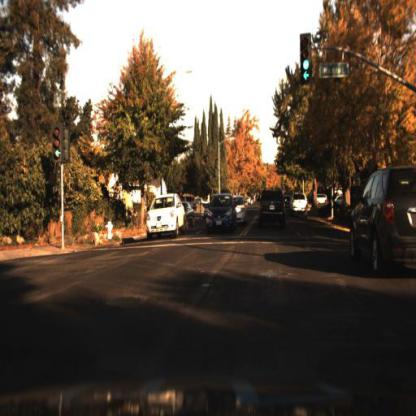car: (349, 166, 416, 280), (147, 189, 191, 241), (204, 194, 238, 236), (254, 186, 289, 226), (257, 186, 288, 230), (290, 189, 311, 218), (235, 194, 247, 224), (236, 197, 247, 223)
trafficLight: (302, 38, 314, 82)
trafficLight-GreenLeft: (53, 125, 64, 167)
